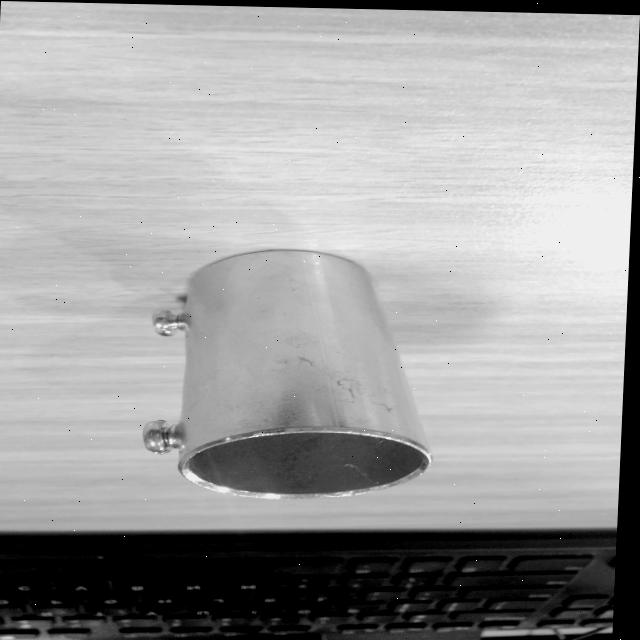Co_Nho: (131, 240, 433, 508)
